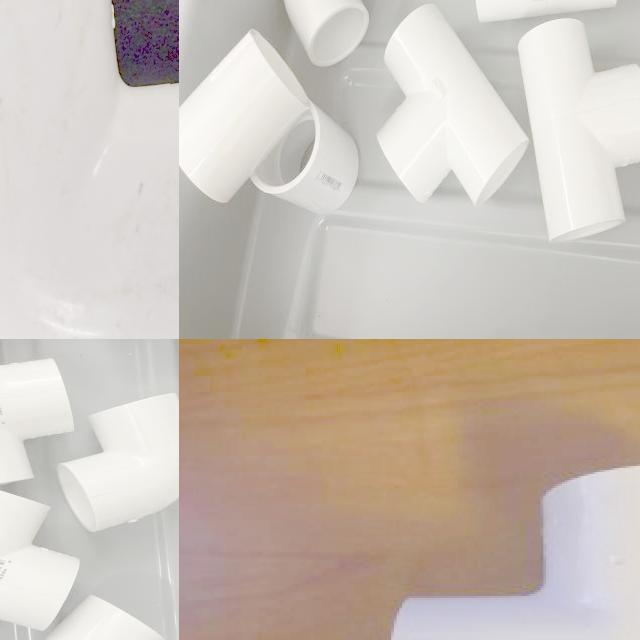L Joint: (388, 466, 640, 640), (56, 394, 179, 535), (282, 0, 370, 68)
T Joint: (375, 4, 530, 208), (516, 19, 640, 243), (0, 493, 82, 635), (0, 361, 73, 487)
